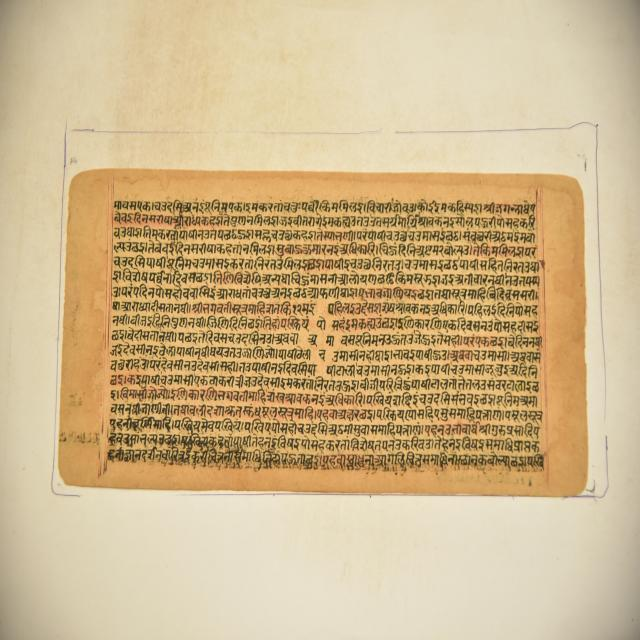text_paragraph: (61, 173, 586, 491)
